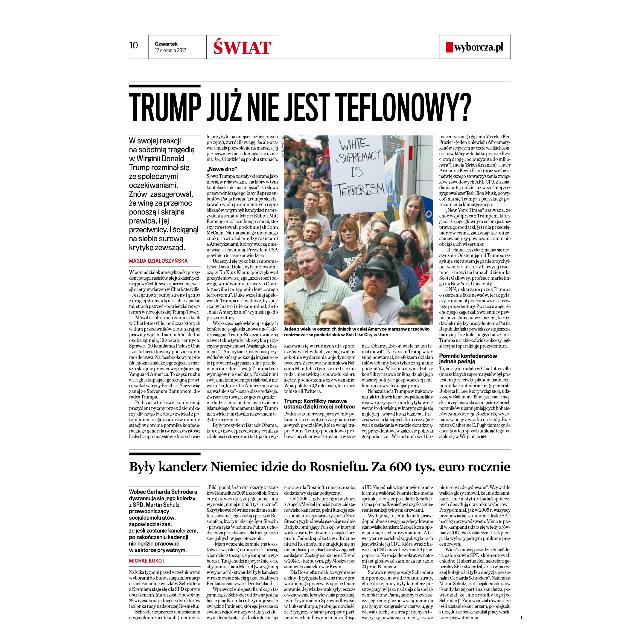article: (124, 81, 516, 443), (124, 450, 516, 628)
